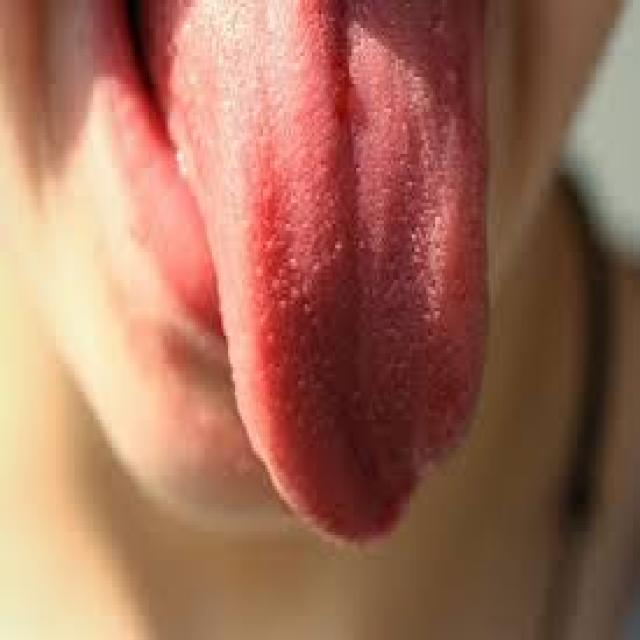normal_tongue: (158, 41, 576, 577)
